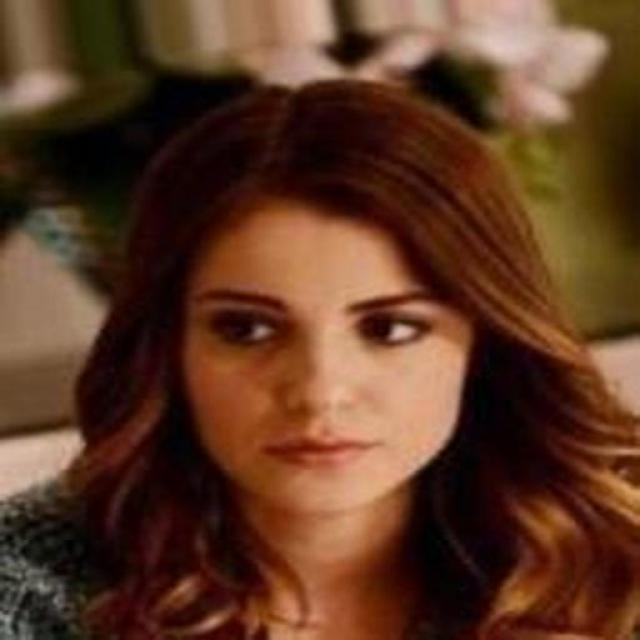bareface: (124, 110, 544, 532)
